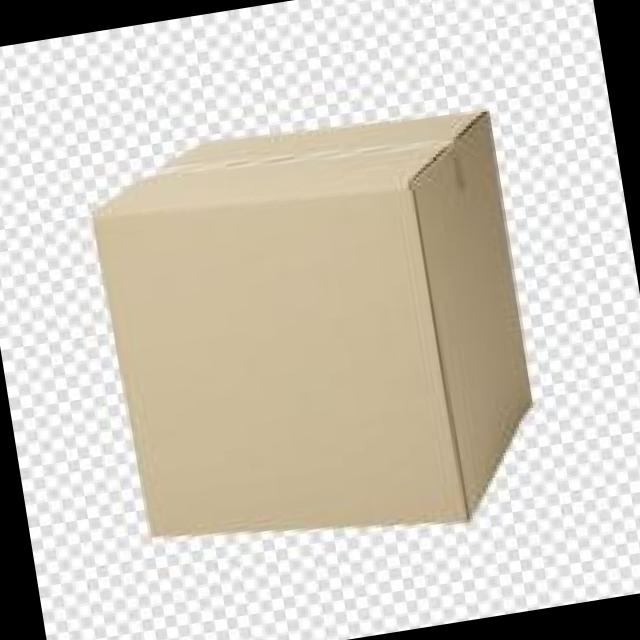box: (90, 108, 532, 536)
